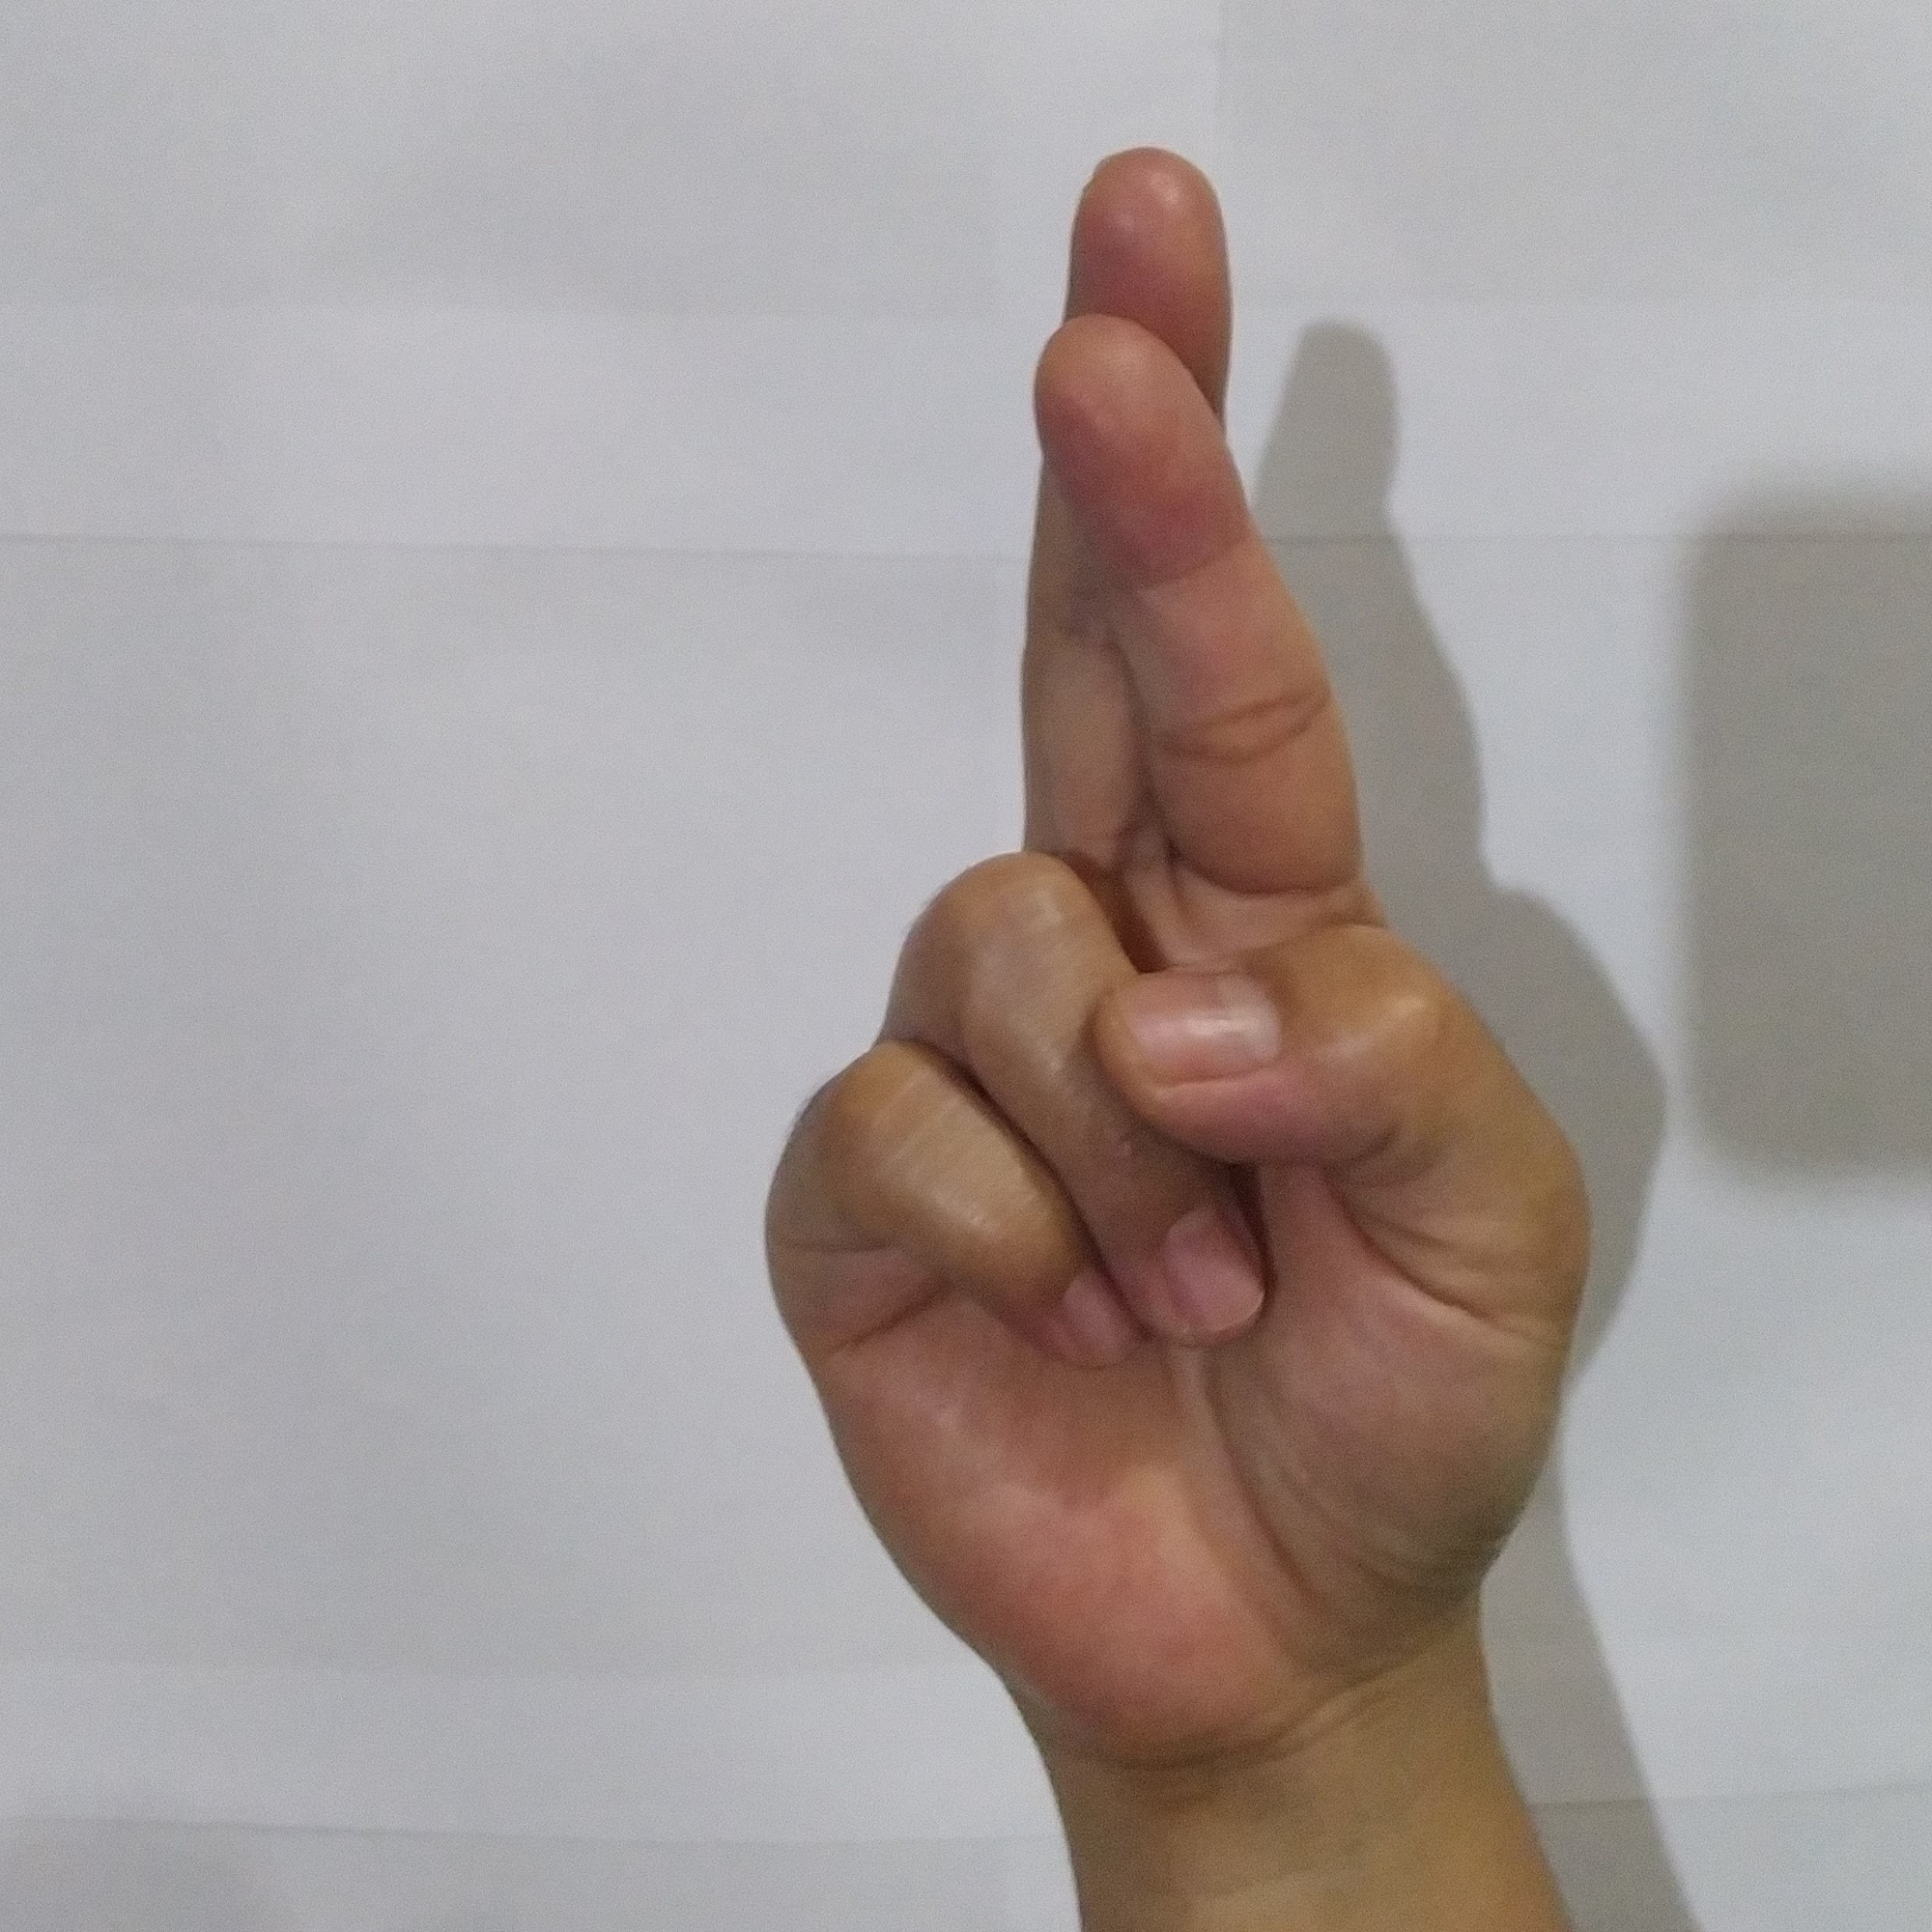R: (741, 124, 1614, 1729)
